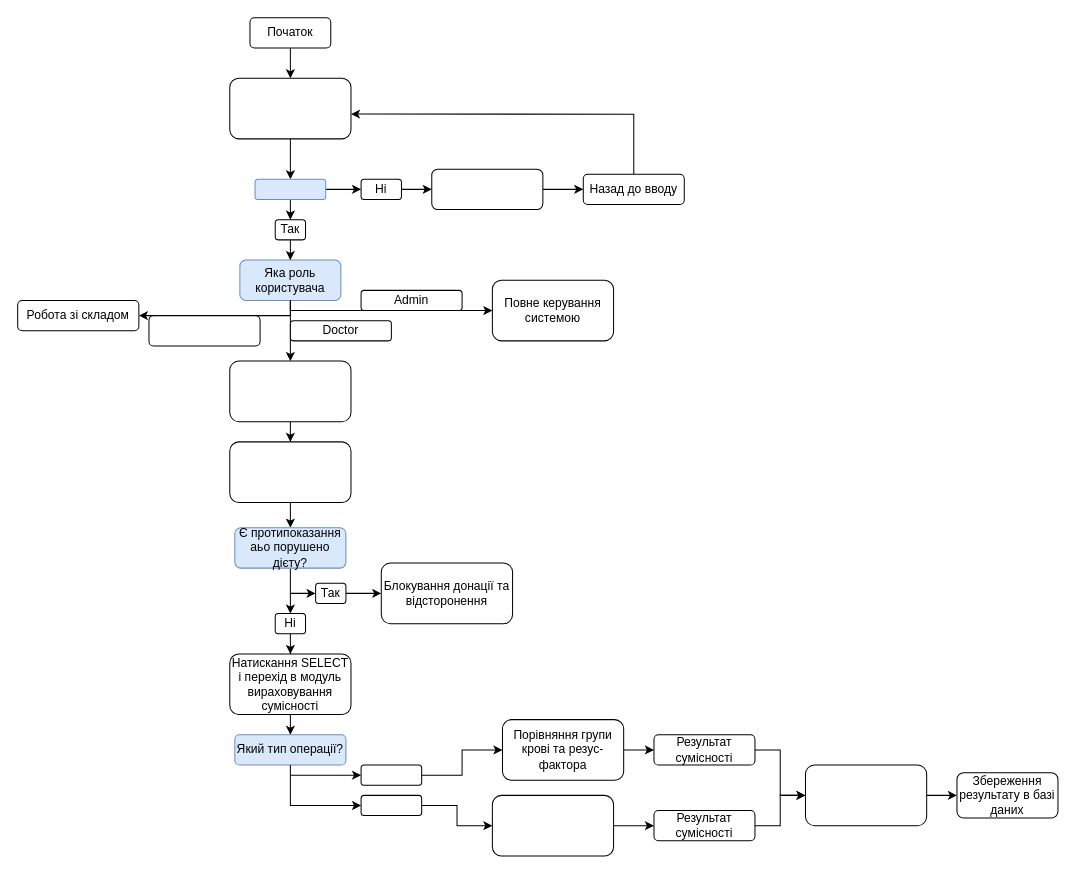
Image size: 1076x874. Some labels were removed from this diagram. The shapes that lost their labels are listed below. From the top down, each one's centre as x and y in pixels, then its label:
the point at 290,108: Введення логіна та пароля
the point at 290,188: Дані вірні?
the point at 487,189: Повідомлення про помилку
the point at 204,330: Storage facility
the point at 290,391: Пошук та вибір особи з Personality
the point at 290,471: Перевірка медичної анкети (reference) та Submission requirement
the point at 391,774: Blood
the point at 391,805: Organ
the point at 865,795: Вибір сумісної пари і натискання SAVE
the point at 552,825: Порівняння групи крові, ваги, і перевірка тесту крові
